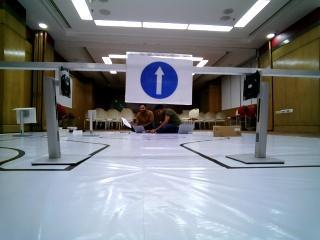straight: (124, 54, 192, 106)
